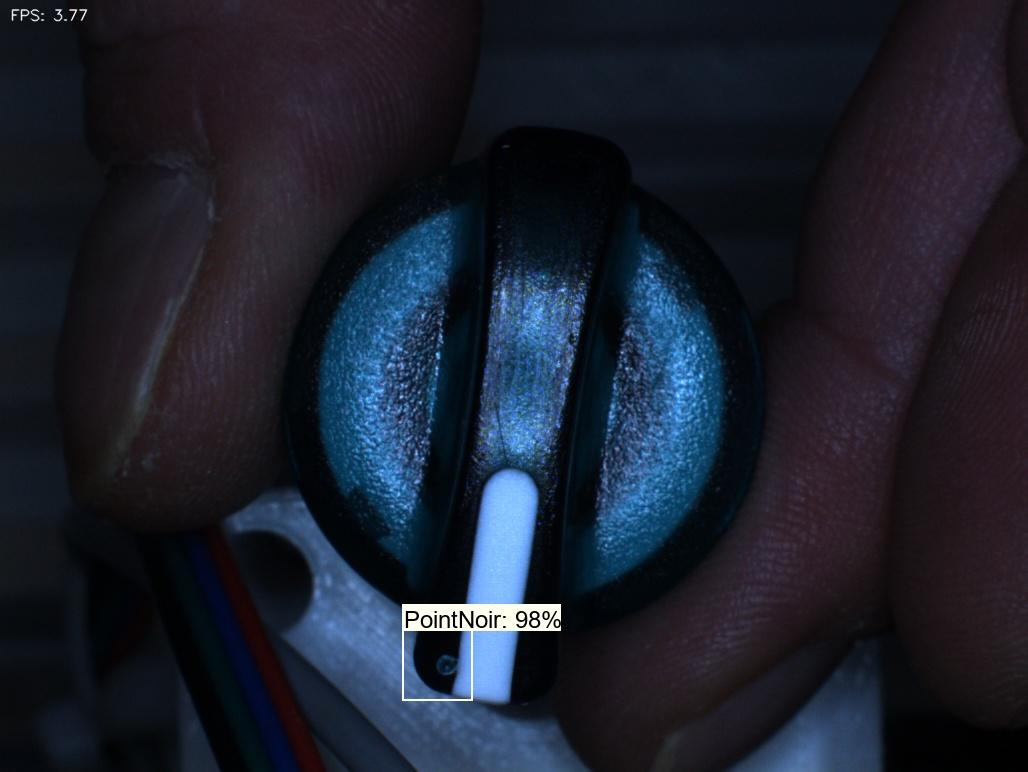Choc: (413, 635, 482, 707)
